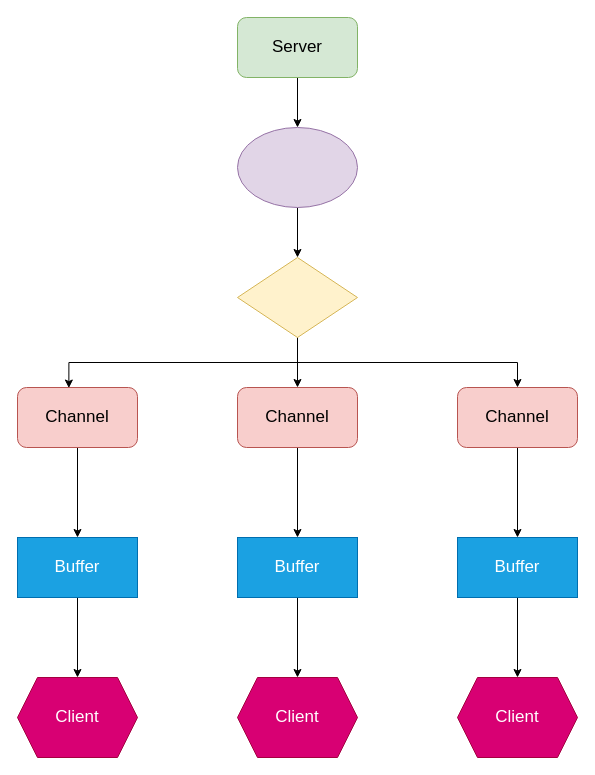
This 595x775 diagram has some shape labels left out. Here are the shapes that lost their labels. From the top down, the centre of each, then its label:
At [297,167]: "Thread".
At [297,297]: "Selector".
